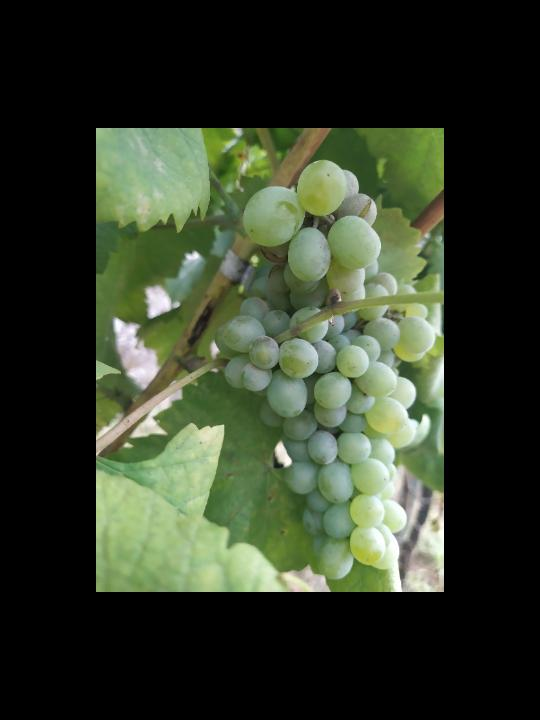grape: (215, 158, 437, 577)
